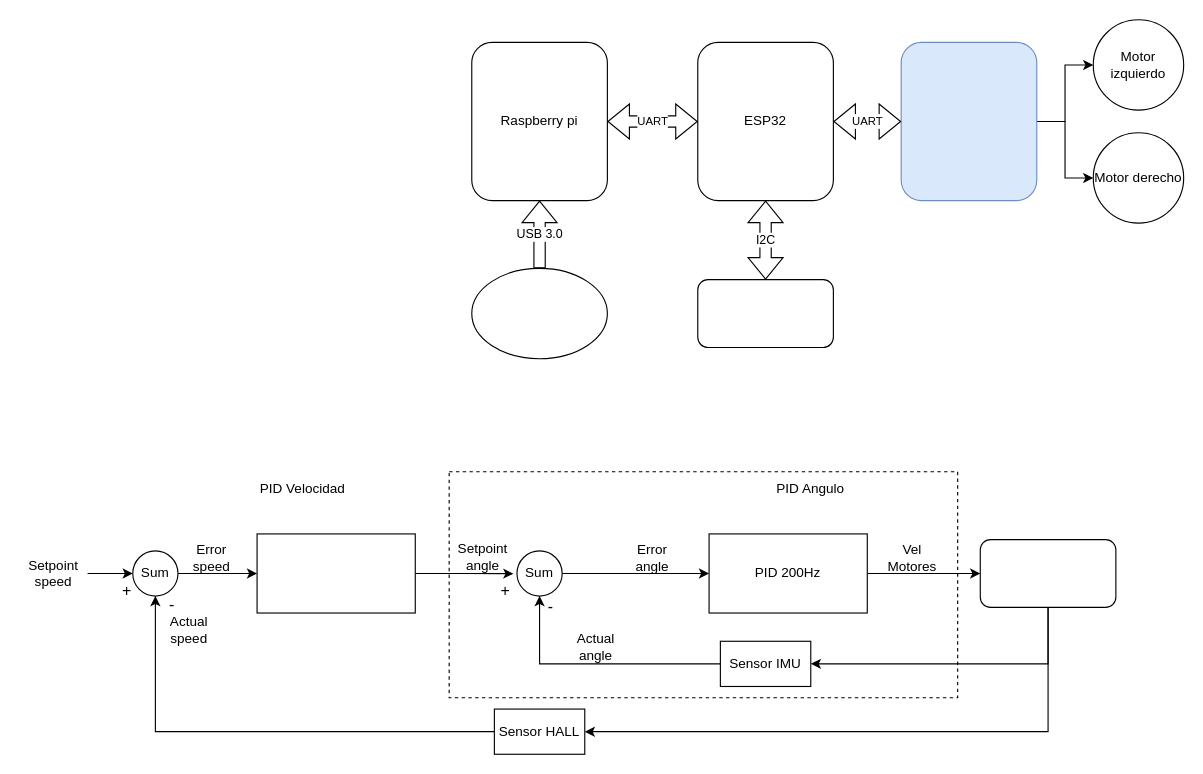
Some shapes in this 1203 by 774 pixel diagram are drawn without their labels. The centre of each missing label's shape, as x and y in pixels:
Camera Ps5: point 539,313
Controladora motores Hoverboard: point 968,121
MPU6050: point 765,313
PID 25Hz: point 335,573
Robot: point 1047,572
